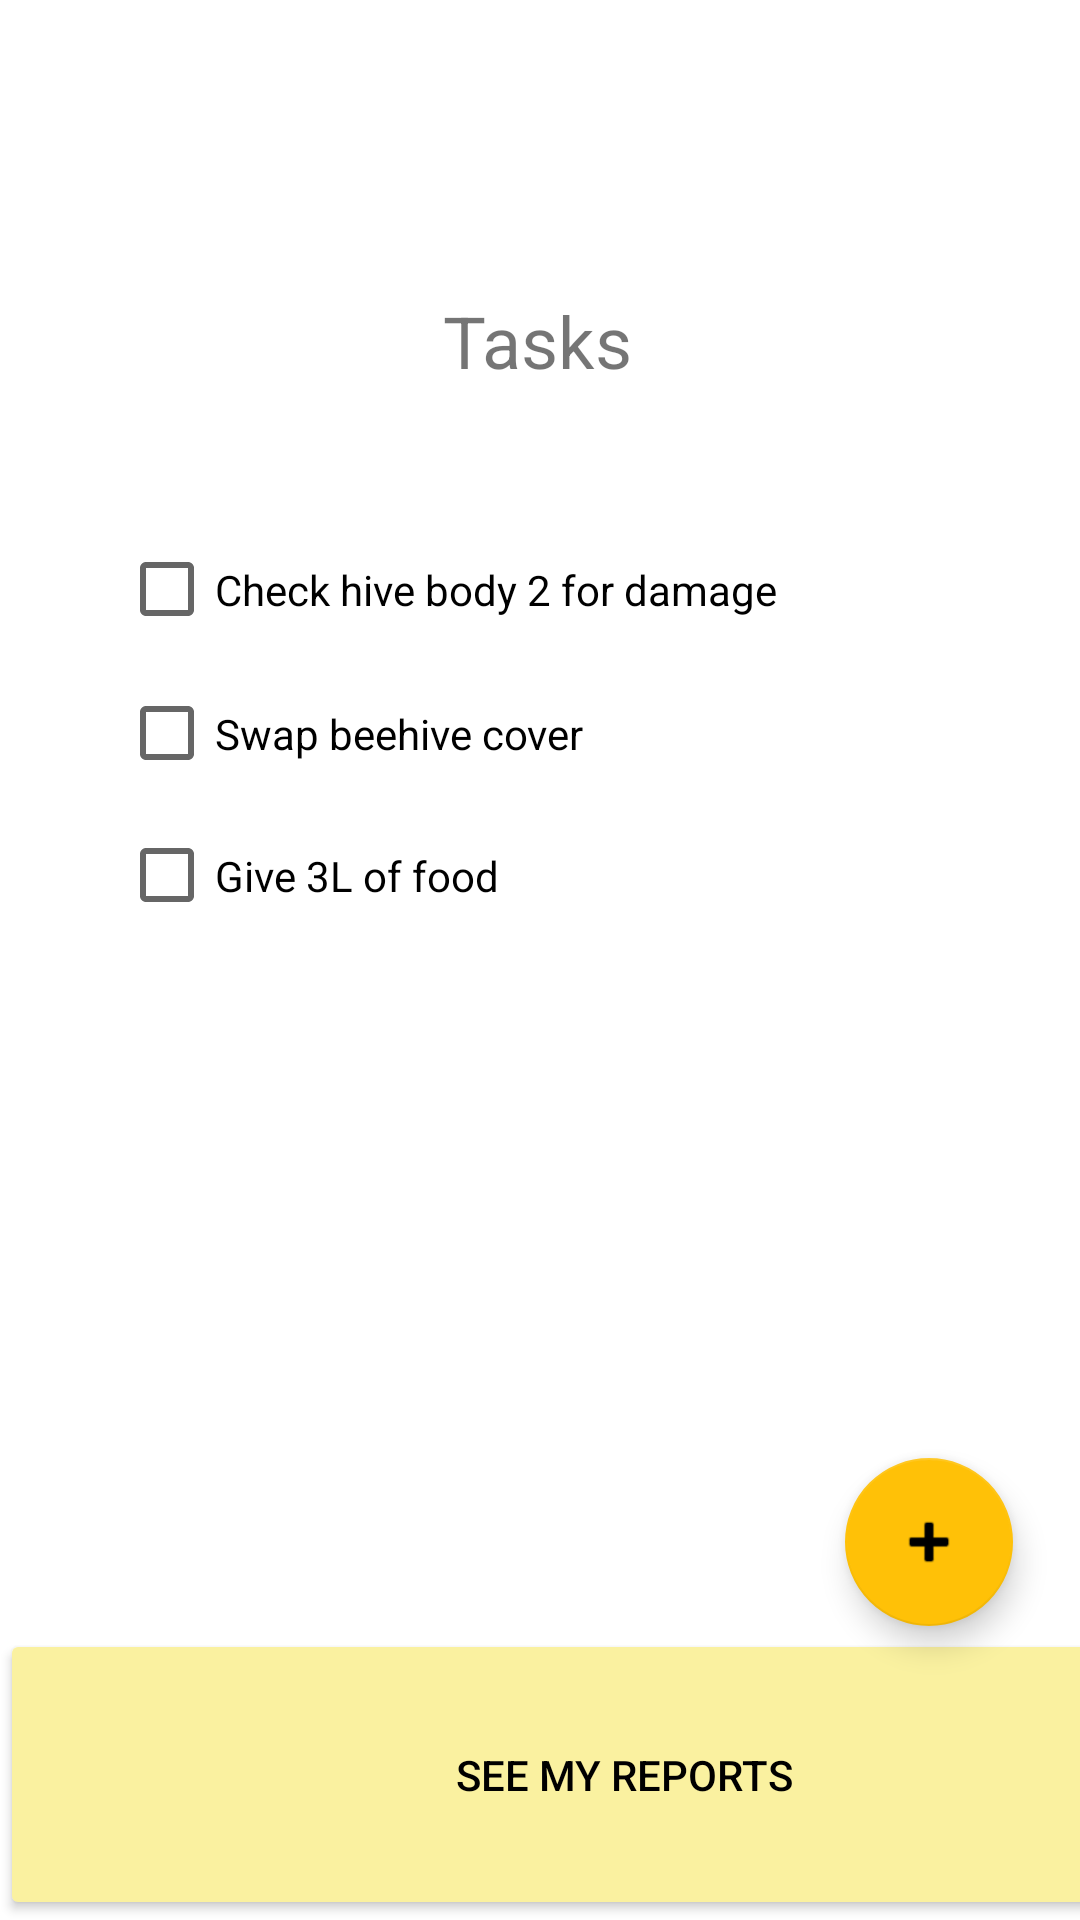

Named icons in this screenshot (1080×1920) and their bounding boxes, (x1, y1, x2, y2):
add: (845, 1458, 1013, 1626)
